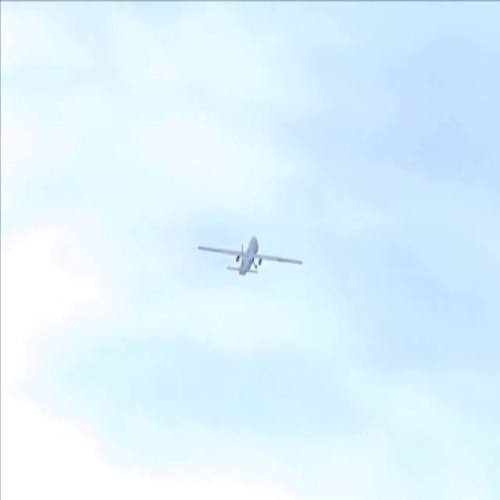uav962: (197, 231, 303, 278)
